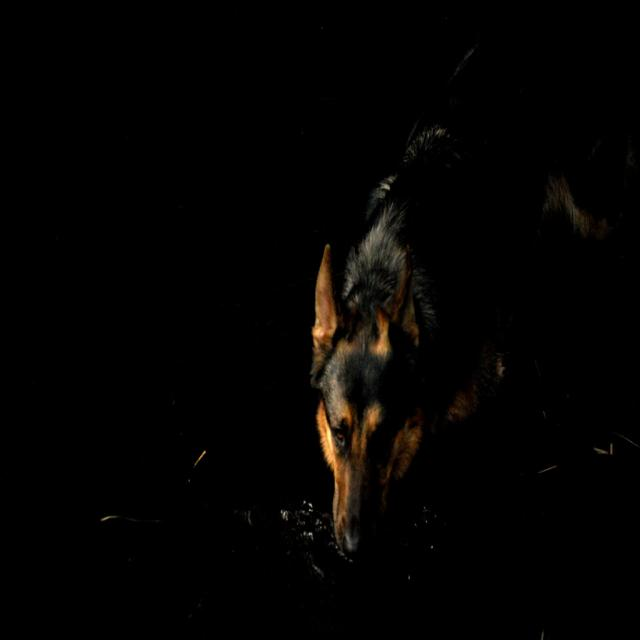Dog: (252, 137, 590, 595)
